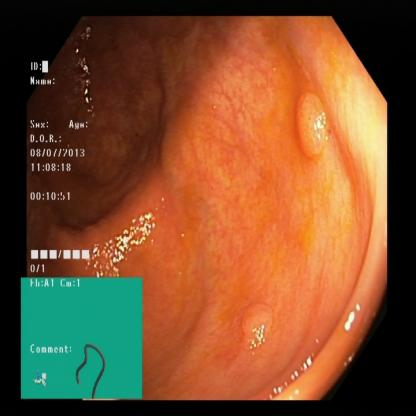Labels: (26, 49, 106, 278), (22, 275, 143, 399)
Polyps: (277, 82, 335, 171)
